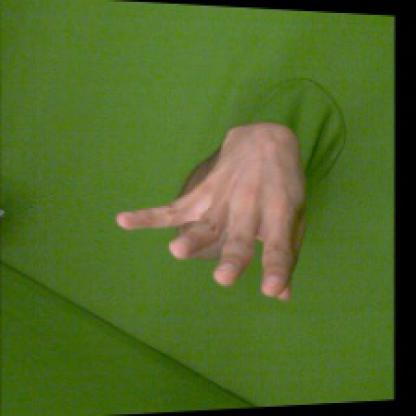Hand: (115, 122, 309, 304)
